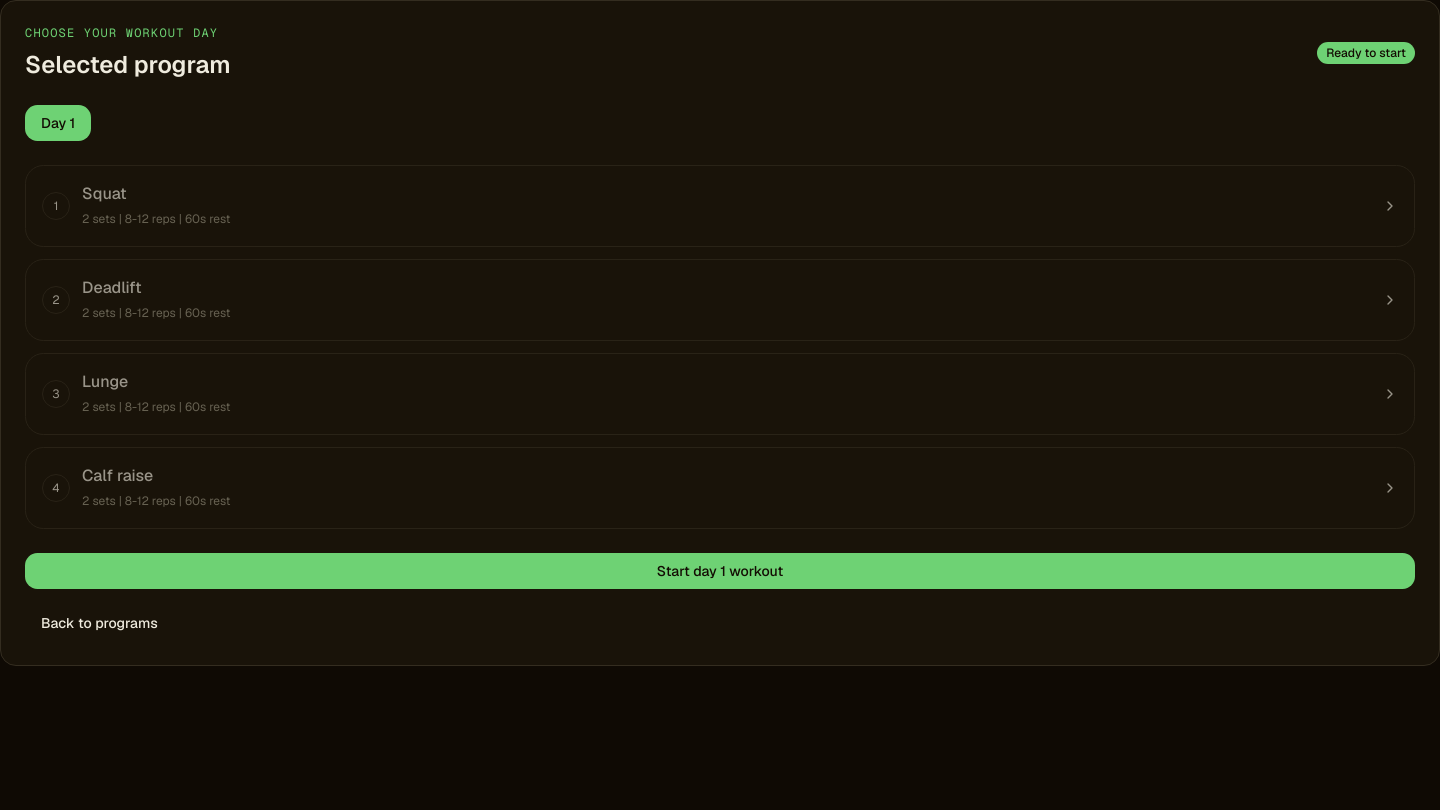
workout interaction › shows start failures and allows retrying
The image size is (1440, 810).
Click the button "Start day 1 workout": coordinates (720, 571) [25, 553, 1415, 589]
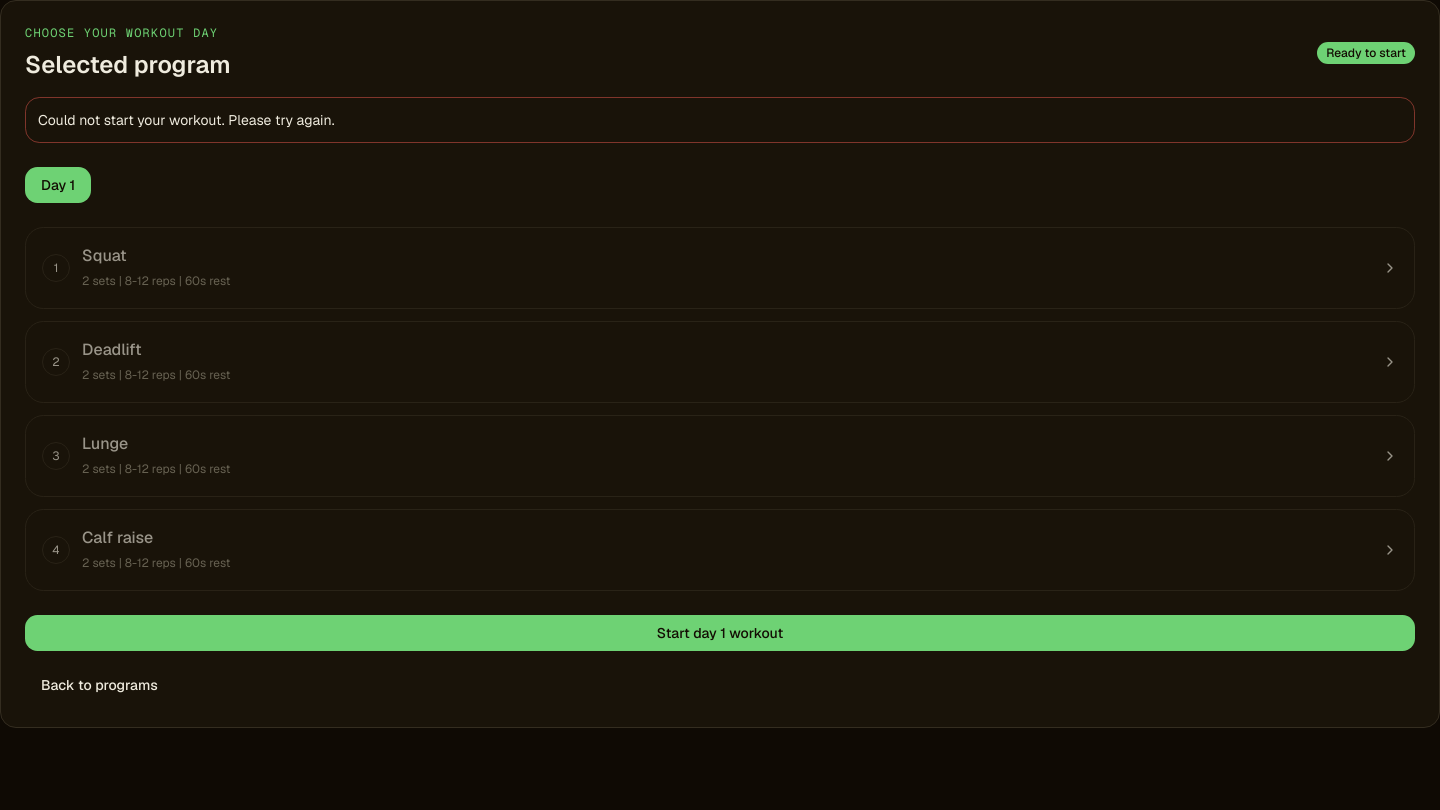
Expected: the button "3 Lunge 2 sets | 8-12 reps | 60s rest" is disabled, [25, 415, 1415, 497]
Now the message "Could not start your workout. Please try again." is shown, box [25, 97, 1415, 143]
Click the button "Start day 1 workout": coordinates (720, 633) [25, 615, 1415, 651]
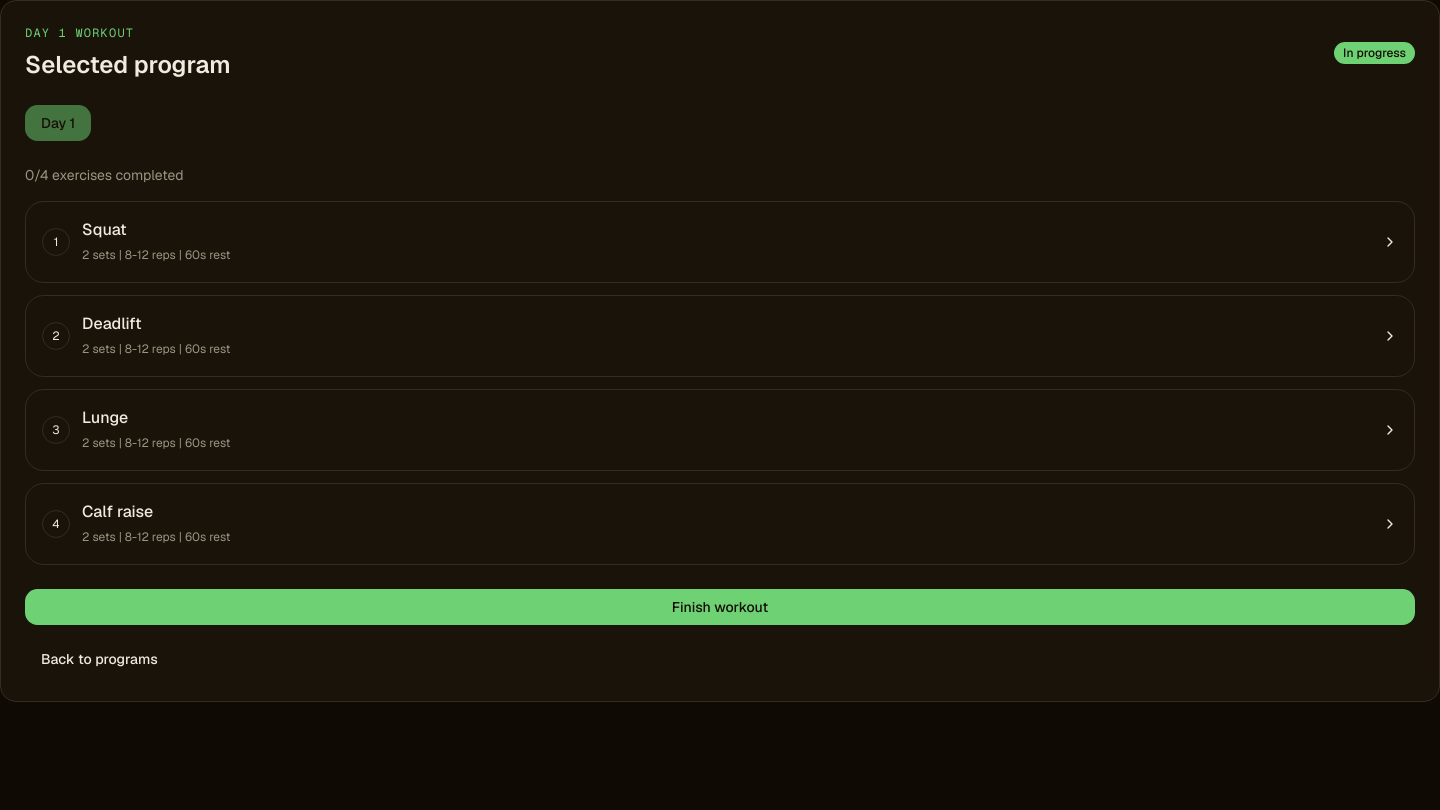
Now the button "3 Lunge 2 sets | 8-12 reps | 60s rest" is enabled, box [25, 389, 1415, 471]
